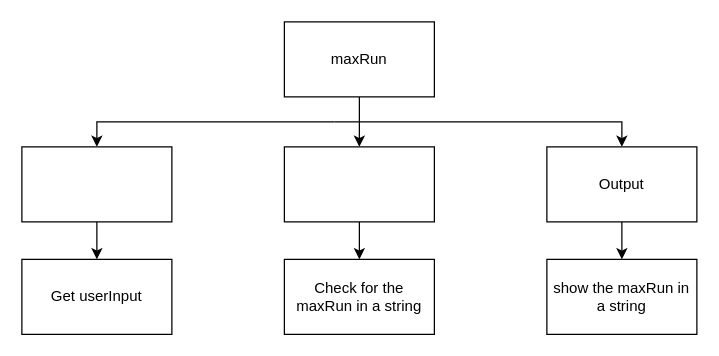
The diagram is 719 pixels wide and 356 high, and some of its shapes have lost their labels. The centre of each missing label's shape, as x and y in pixels:
"Input" goes at pixel 96 184.
"Process" goes at pixel 358 184.
